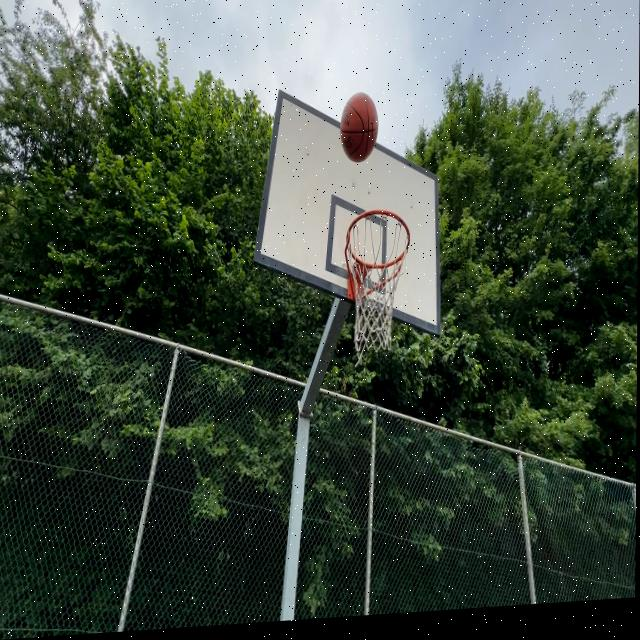Basketball: (340, 93, 379, 165)
